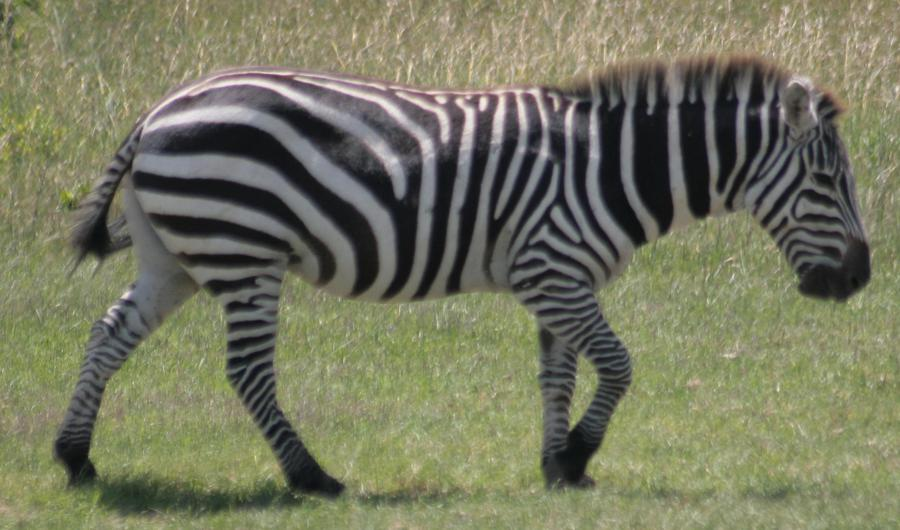zebra_plains: (136, 52, 633, 315)
